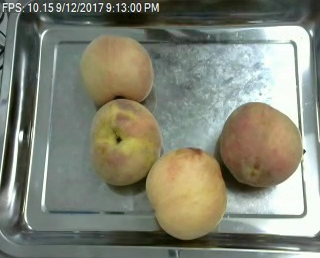Peach: (146, 146, 228, 239), (217, 101, 301, 187), (88, 98, 162, 189), (79, 33, 153, 106)
